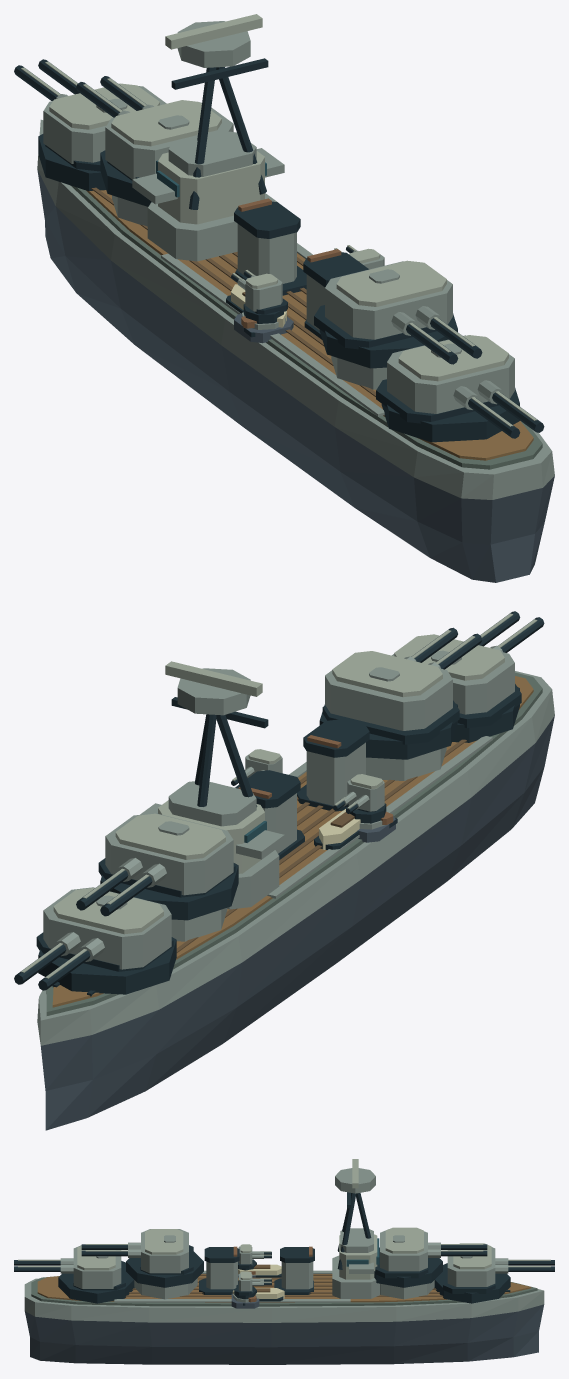
File: historic-hood.glb
The picture shows the model from 3 angles, top to bottom: view 1: azimuth 30°, elevation 25°; view 2: azimuth 150°, elevation 25°; view 3: azimuth 270°, elevation 25°; orthographic projection. The views are drawn at different scales.
Visible parts, largest first — view 1: historic-hood-historic-hood-geometry, historic-hood-part_bridge.015-geometry, historic-hood-turret_main_3.005-geometry, historic-hood-turret_main_2.011-geometry, historic-hood-turret_main_1.011-geometry, historic-hood-turret_main_0.012-geometry, historic-hood-historic_funnel_0.016-geometry, historic-hood-historic_funnel_1.007-geometry, historic-hood-turret_aa_aa-port.017-geometry, historic-hood-part_aa-port.017-geometry; view 2: historic-hood-historic-hood-geometry, historic-hood-part_bridge.015-geometry, historic-hood-turret_main_2.011-geometry, historic-hood-turret_main_0.012-geometry, historic-hood-turret_main_1.011-geometry, historic-hood-turret_main_3.005-geometry, historic-hood-historic_funnel_1.007-geometry, historic-hood-historic_funnel_0.016-geometry, historic-hood-turret_aa_aa-port.017-geometry, historic-hood-turret_aa_aa-starboard.015-geometry; view 3: historic-hood-historic-hood-geometry, historic-hood-part_bridge.015-geometry, historic-hood-turret_main_2.011-geometry, historic-hood-turret_main_1.011-geometry, historic-hood-turret_main_0.012-geometry, historic-hood-turret_main_3.005-geometry, historic-hood-historic_funnel_1.007-geometry, historic-hood-historic_funnel_0.016-geometry, historic-hood-turret_aa_aa-starboard.015-geometry, historic-hood-turret_aa_aa-port.017-geometry, historic-hood-part_aa-starboard.015-geometry.
Boxes of the visible parts, box(x1,y1,x2,y2) form: historic-hood-historic-hood-geometry: box(37, 119, 554, 582); historic-hood-part_bridge.015-geometry: box(132, 14, 284, 261); historic-hood-turret_main_3.005-geometry: box(376, 335, 544, 442); historic-hood-turret_main_2.011-geometry: box(314, 260, 482, 368); historic-hood-turret_main_1.011-geometry: box(76, 76, 233, 206); historic-hood-turret_main_0.012-geometry: box(14, 59, 166, 191); historic-hood-historic_funnel_0.016-geometry: box(234, 198, 306, 295); historic-hood-historic_funnel_1.007-geometry: box(303, 249, 368, 339); historic-hood-turret_aa_aa-port.017-geometry: box(231, 270, 287, 323); historic-hood-part_aa-port.017-geometry: box(234, 312, 293, 343); historic-hood-historic-hood-geometry: box(37, 671, 554, 1130); historic-hood-part_bridge.015-geometry: box(140, 661, 284, 909); historic-hood-turret_main_2.011-geometry: box(319, 627, 482, 759); historic-hood-turret_main_0.012-geometry: box(14, 887, 176, 994); historic-hood-turret_main_1.011-geometry: box(76, 813, 238, 920); historic-hood-turret_main_3.005-geometry: box(392, 611, 544, 742); historic-hood-historic_funnel_1.007-geometry: box(297, 719, 369, 811); historic-hood-historic_funnel_0.016-geometry: box(235, 770, 304, 859); historic-hood-turret_aa_aa-port.017-geometry: box(333, 774, 386, 823); historic-hood-turret_aa_aa-starboard.015-geometry: box(231, 749, 282, 785); historic-hood-historic-hood-geometry: box(24, 1264, 544, 1364); historic-hood-part_bridge.015-geometry: box(332, 1159, 379, 1298); historic-hood-turret_main_2.011-geometry: box(81, 1229, 203, 1287); historic-hood-turret_main_1.011-geometry: box(374, 1227, 487, 1287); historic-hood-turret_main_0.012-geometry: box(434, 1243, 554, 1303); historic-hood-turret_main_3.005-geometry: box(14, 1245, 134, 1303); historic-hood-historic_funnel_1.007-geometry: box(199, 1246, 239, 1294); historic-hood-historic_funnel_0.016-geometry: box(274, 1246, 314, 1294); historic-hood-turret_aa_aa-starboard.015-geometry: box(234, 1271, 271, 1299); historic-hood-turret_aa_aa-port.017-geometry: box(238, 1244, 271, 1270); historic-hood-part_aa-starboard.015-geometry: box(231, 1293, 259, 1308).
Bounding box in the file's own units: 0.8576 × 1.84 × 4.99.
